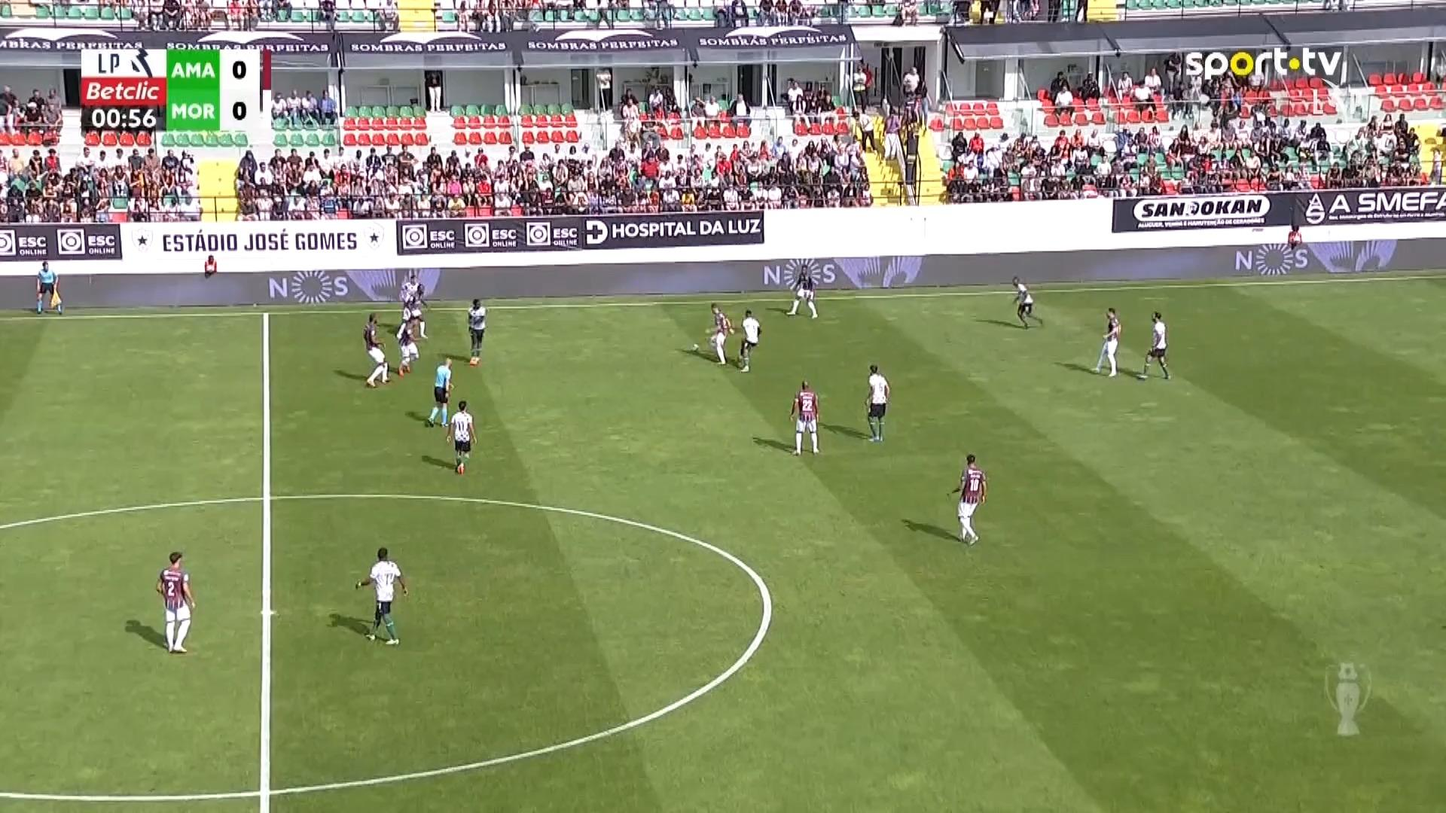ball: (692, 343, 698, 351)
player: (354, 547, 407, 645), (154, 550, 196, 653), (950, 453, 987, 545), (789, 379, 821, 455), (445, 400, 477, 475), (398, 269, 429, 340), (362, 312, 391, 387), (1139, 310, 1170, 379), (863, 363, 889, 442), (1092, 307, 1121, 377), (785, 263, 818, 318), (706, 302, 734, 364), (395, 312, 420, 375), (737, 308, 761, 372), (465, 297, 487, 365), (1011, 275, 1036, 328)
referee: (424, 356, 454, 429), (34, 260, 63, 315)
